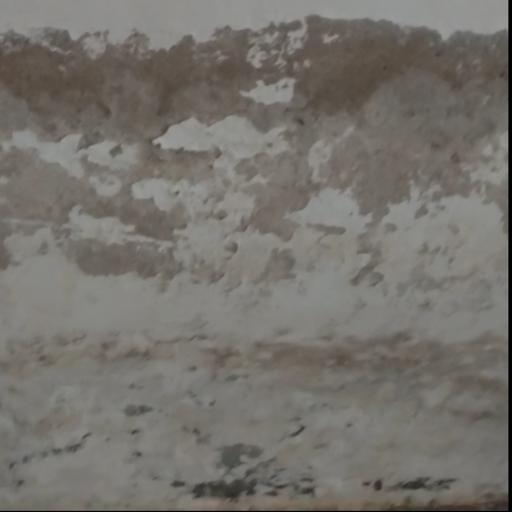peeling: (0, 18, 512, 389)
